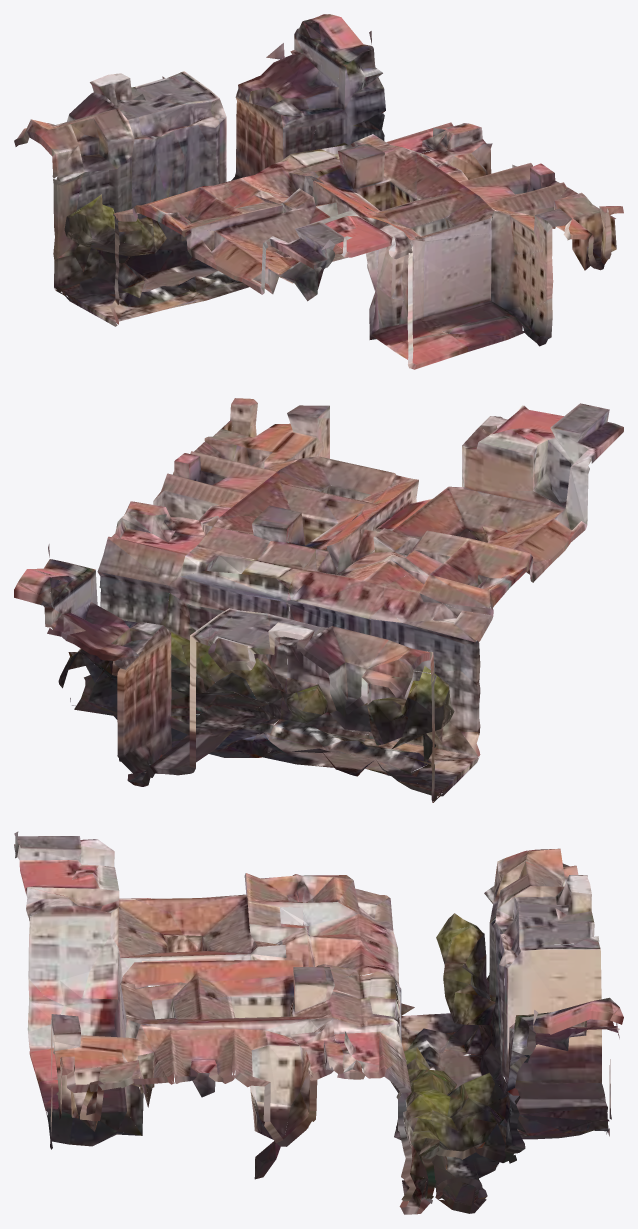
3 renders of one model, top to bottom at view 1: azimuth 30°, elevation 25°; view 2: azimuth 150°, elevation 25°; view 3: azimuth 270°, elevation 25°, orthographic. The views are drawn at different scales.
Visible parts, largest first — view 1: Mesh_0; view 2: Mesh_0; view 3: Mesh_0.
Part boxes in pixels (x1,y1,x2,y2): Mesh_0: (14, 14, 623, 369); Mesh_0: (14, 398, 623, 802); Mesh_0: (14, 831, 623, 1214).
Size of the model in its own units: 66.62 by 34.38 by 82.45.
2 materials, 2 textured.
